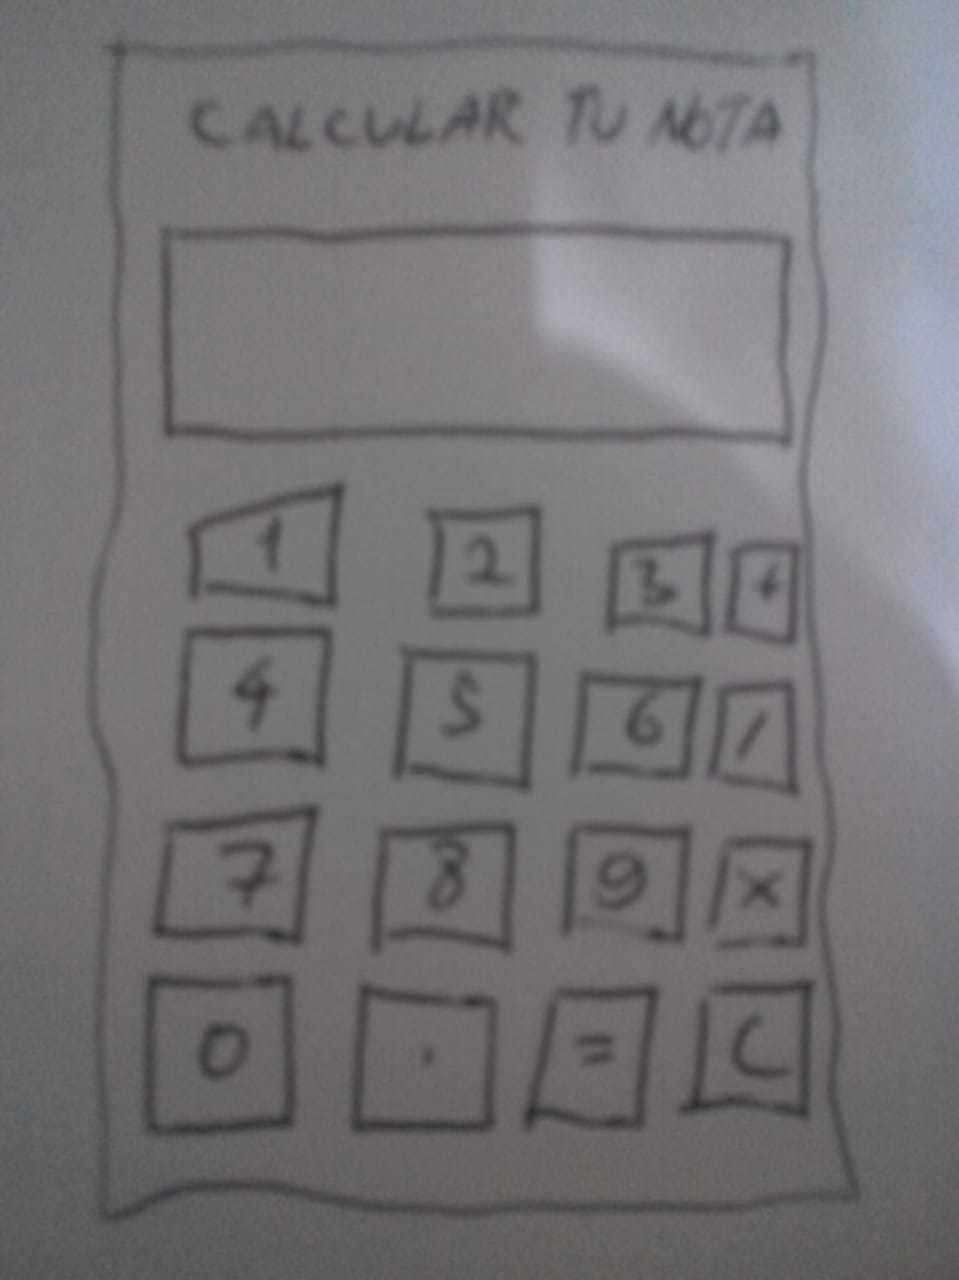Button: (144, 974, 298, 1138), (153, 808, 319, 946), (174, 625, 332, 769), (390, 646, 540, 791), (354, 982, 495, 1132), (186, 481, 346, 608), (526, 984, 661, 1131), (370, 821, 517, 953), (687, 979, 812, 1120), (561, 822, 693, 944), (569, 670, 702, 780), (424, 504, 543, 619), (706, 836, 815, 951), (605, 532, 715, 637), (708, 680, 800, 794), (723, 540, 801, 646)
Label: (189, 85, 782, 151)
Screen: (86, 35, 857, 1224)
TextBox: (158, 222, 794, 446)
